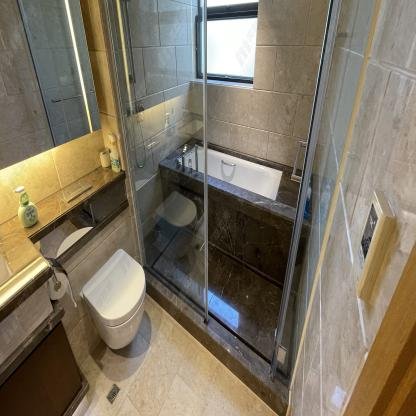Bathtub: (159, 137, 285, 280)
Toilet: (78, 247, 146, 348)
